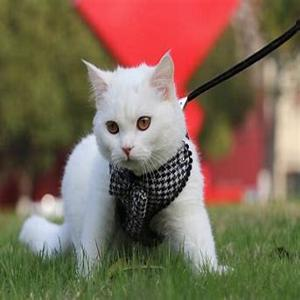cat: (48, 56, 224, 277)
